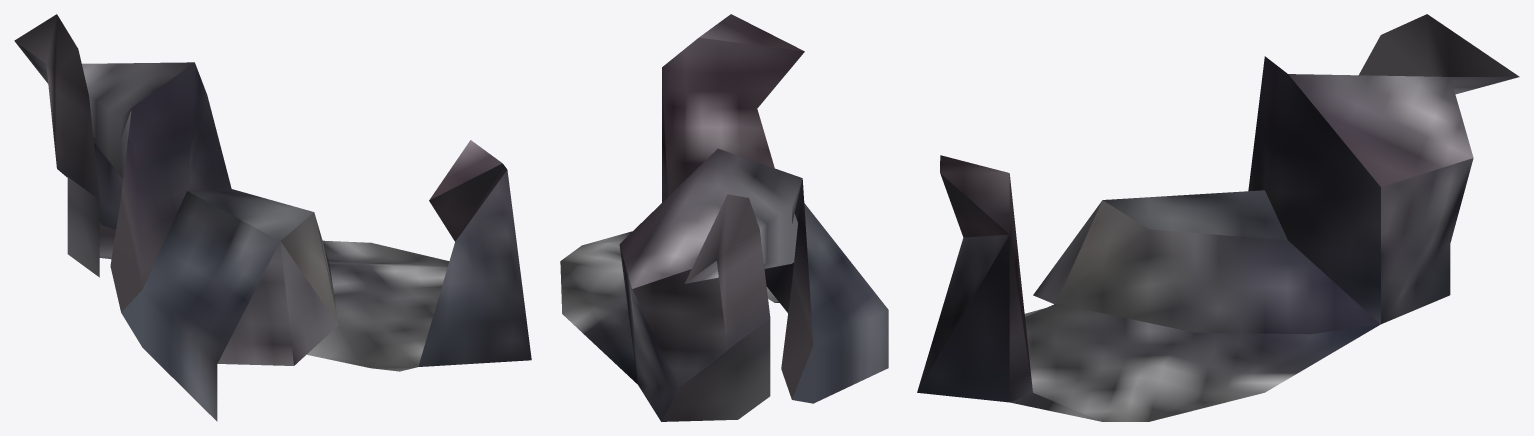
3 renders of one model, left to right at view 1: azimuth 30°, elevation 25°; view 2: azimuth 150°, elevation 25°; view 3: azimuth 270°, elevation 25°, orthographic. The views are drawn at different scales.
Visible parts, largest first — view 1: 30436272704361636634_0; view 2: 30436272704361636634_0; view 3: 30436272704361636634_0.
Part boxes in pixels (bbox=[...]): 30436272704361636634_0: bbox=[14, 14, 531, 421]; 30436272704361636634_0: bbox=[560, 14, 888, 421]; 30436272704361636634_0: bbox=[917, 14, 1519, 421].
Bounding box in the file's own units: 2.45 × 2.31 × 4.01.
Materials: 1 (1 with a texture image).
